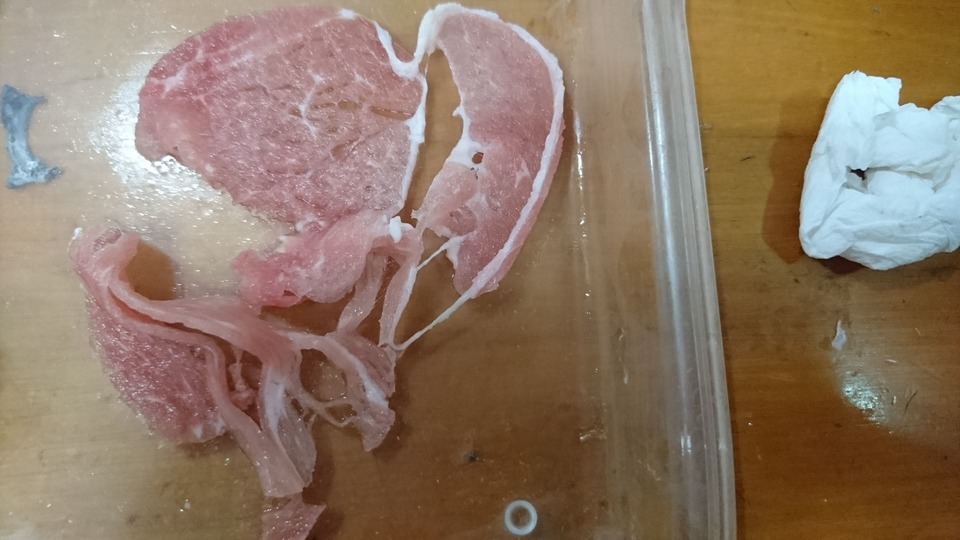restructured meat: (86, 24, 558, 474)
